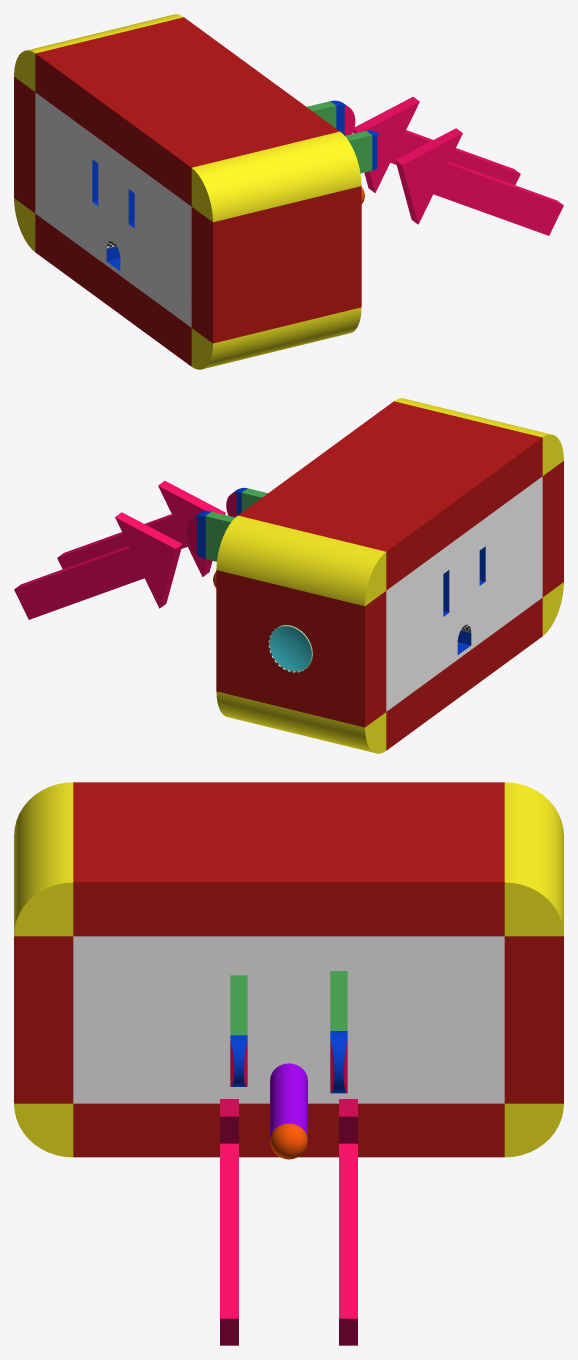
File: Case_Study_SmartSwitch_12.glb
The picture shows the model from 3 angles, top to bottom: view 1: azimuth 30°, elevation 25°; view 2: azimuth 150°, elevation 25°; view 3: azimuth 270°, elevation 25°; orthographic projection. The views are drawn at different scales.
Visible parts, largest first — view 1: Part 16, Part 20, Part 15, Part 14, Part 13, Part 21; view 2: Part 16, Part 20, Part 15, Part 14, Part 19, Part 13, Part 21; view 3: Part 16, Part 20, Part 15, Part 14, Part 22, Part 21, Part 13, Part 24.
Boxes of the visible parts, left/top/right/bottom form: Part 16: left=14, top=17, right=361, bottom=366; Part 20: left=35, top=92, right=191, bottom=327; Part 15: left=14, top=14, right=361, bottom=369; Part 14: left=344, top=97, right=563, bottom=235; Part 13: left=92, top=100, right=381, bottom=270; Part 21: left=307, top=101, right=372, bottom=173; Part 16: left=216, top=401, right=563, bottom=750; Part 20: left=386, top=476, right=542, bottom=711; Part 15: left=216, top=398, right=563, bottom=753; Part 14: left=14, top=481, right=236, bottom=619; Part 19: left=270, top=626, right=311, bottom=670; Part 13: left=194, top=487, right=485, bottom=654; Part 21: left=205, top=488, right=267, bottom=561; Part 16: left=14, top=782, right=563, bottom=1157; Part 20: left=73, top=936, right=504, bottom=1103; Part 15: left=14, top=782, right=563, bottom=1157; Part 14: left=220, top=1040, right=357, bottom=1345; Part 22: left=270, top=1063, right=307, bottom=1139; Part 21: left=230, top=971, right=347, bottom=1035; Part 13: left=230, top=1031, right=347, bottom=1093; Part 24: left=270, top=1123, right=307, bottom=1159.
Bounding box in the file's own units: 0.0909 × 0.0423 × 0.0737.
Materials: 12 (2 with a texture image).
